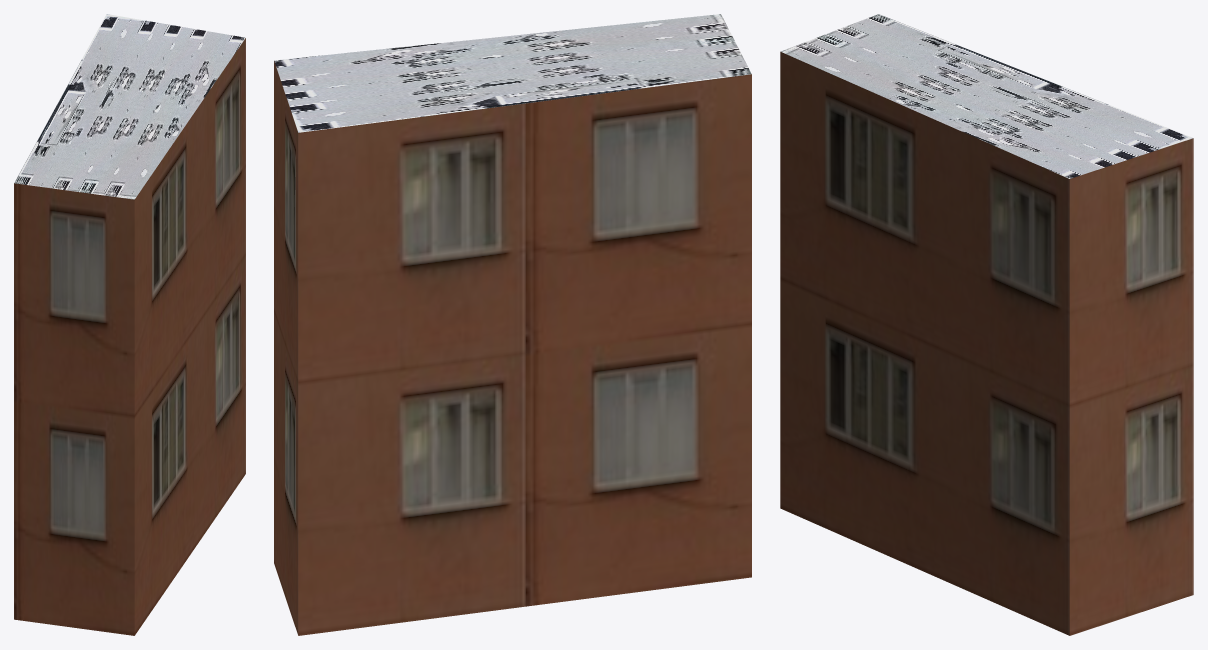
The model's file is ResTex__2807.fbx.
3 renders of one model, left to right at view 1: azimuth 30°, elevation 25°; view 2: azimuth 150°, elevation 25°; view 3: azimuth 270°, elevation 25°, orthographic. The views are drawn at different scales.
Parts seen in each view (by area): view 1: CityEngineMaterial_20_m, CityEngineMaterial_m; view 2: CityEngineMaterial_20_m, CityEngineMaterial_m; view 3: CityEngineMaterial_20_m, CityEngineMaterial_m.
Part boxes in pixels (x1,y1,x2,y2): CityEngineMaterial_20_m: [14, 38, 245, 635]; CityEngineMaterial_m: [14, 14, 245, 199]; CityEngineMaterial_20_m: [274, 61, 751, 635]; CityEngineMaterial_m: [274, 14, 751, 132]; CityEngineMaterial_20_m: [780, 51, 1193, 635]; CityEngineMaterial_m: [781, 14, 1193, 178].
Bounding box in the file's own units: 4.65 × 6 × 4.92.
2 materials, 2 textured.
